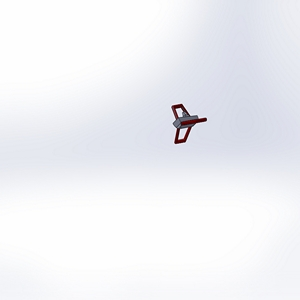submarine: (152, 94, 223, 165)
